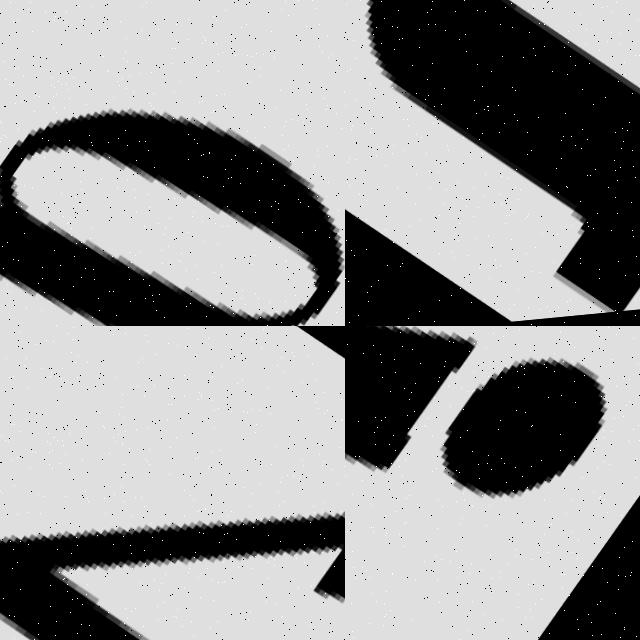I: (345, 326, 634, 640)
P: (0, 114, 340, 326)
U: (345, 0, 640, 326)
Y: (0, 326, 345, 640)
